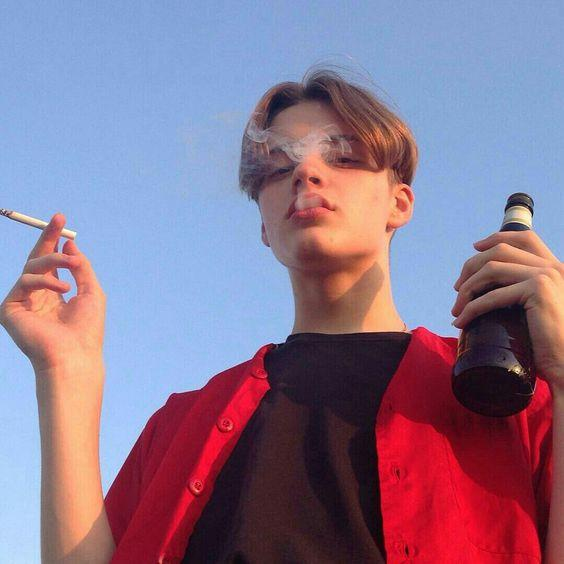cigarette: (0, 208, 76, 240)
